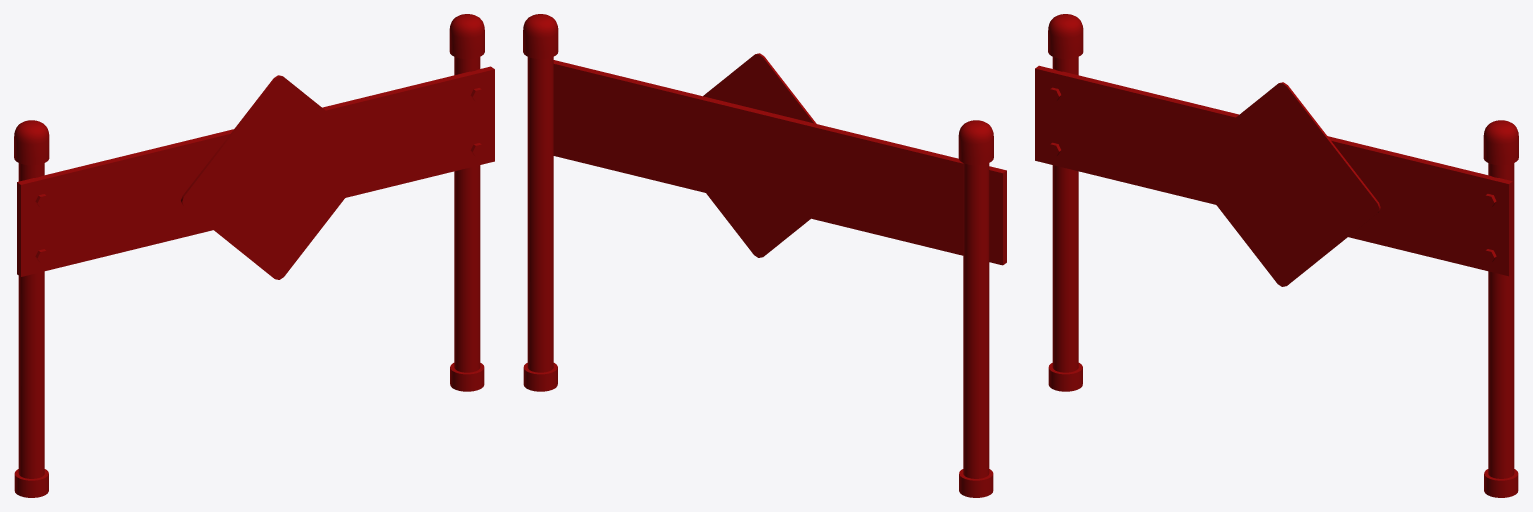
File: barrier.fbx
3 renders of one model, left to right at view 1: azimuth 30°, elevation 25°; view 2: azimuth 150°, elevation 25°; view 3: azimuth 330°, elevation 25°, orthographic.
Parts seen in each view (by area): view 1: Road_berrier_5; view 2: Road_berrier_5; view 3: Road_berrier_5.
Part boxes in pixels (bbox=[...]): Road_berrier_5: bbox=[14, 14, 494, 497]; Road_berrier_5: bbox=[523, 14, 1006, 497]; Road_berrier_5: bbox=[1035, 14, 1518, 497].
Size of the model in its own units: 201 by 150 by 18.
